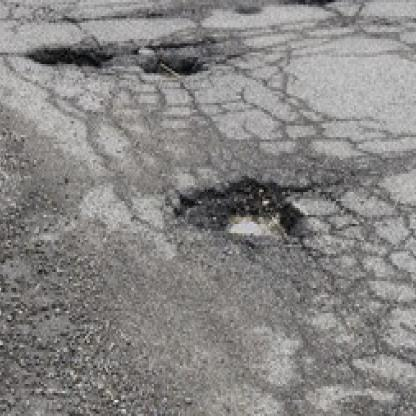pothole: (170, 174, 310, 247), (26, 43, 116, 71), (136, 37, 215, 60), (144, 55, 208, 78), (289, 0, 345, 7)
